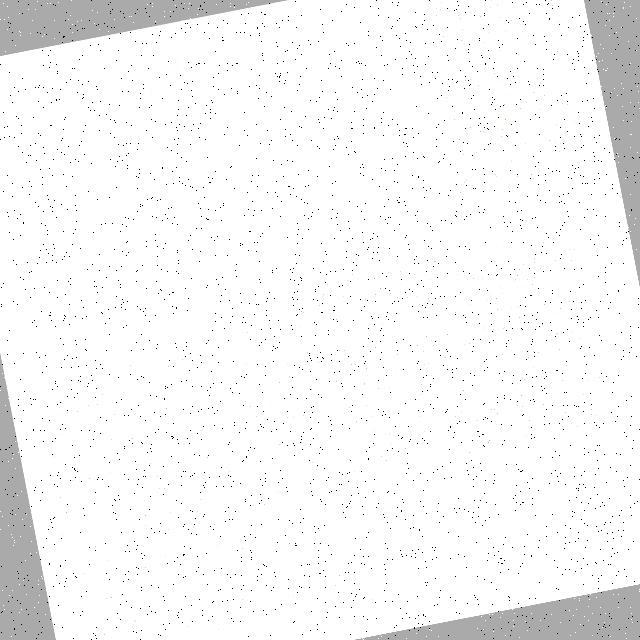Minor-Dent: (29, 316, 383, 640), (294, 232, 611, 480), (413, 0, 591, 209)
